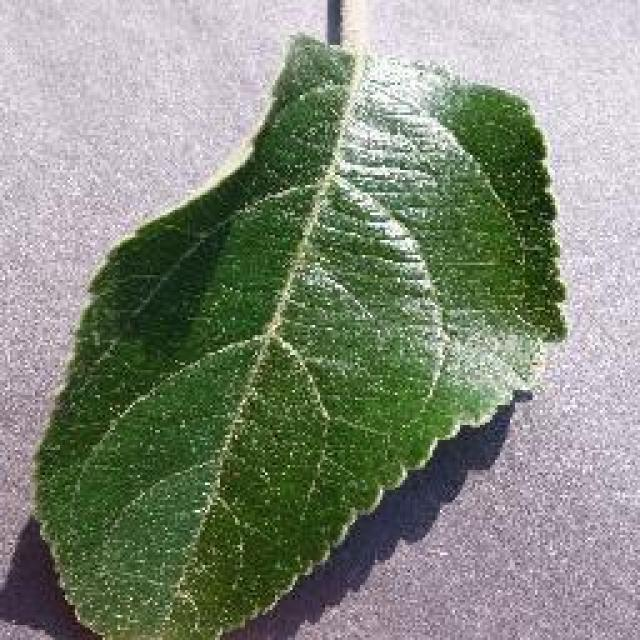apple scab disease: (28, 28, 570, 638)
